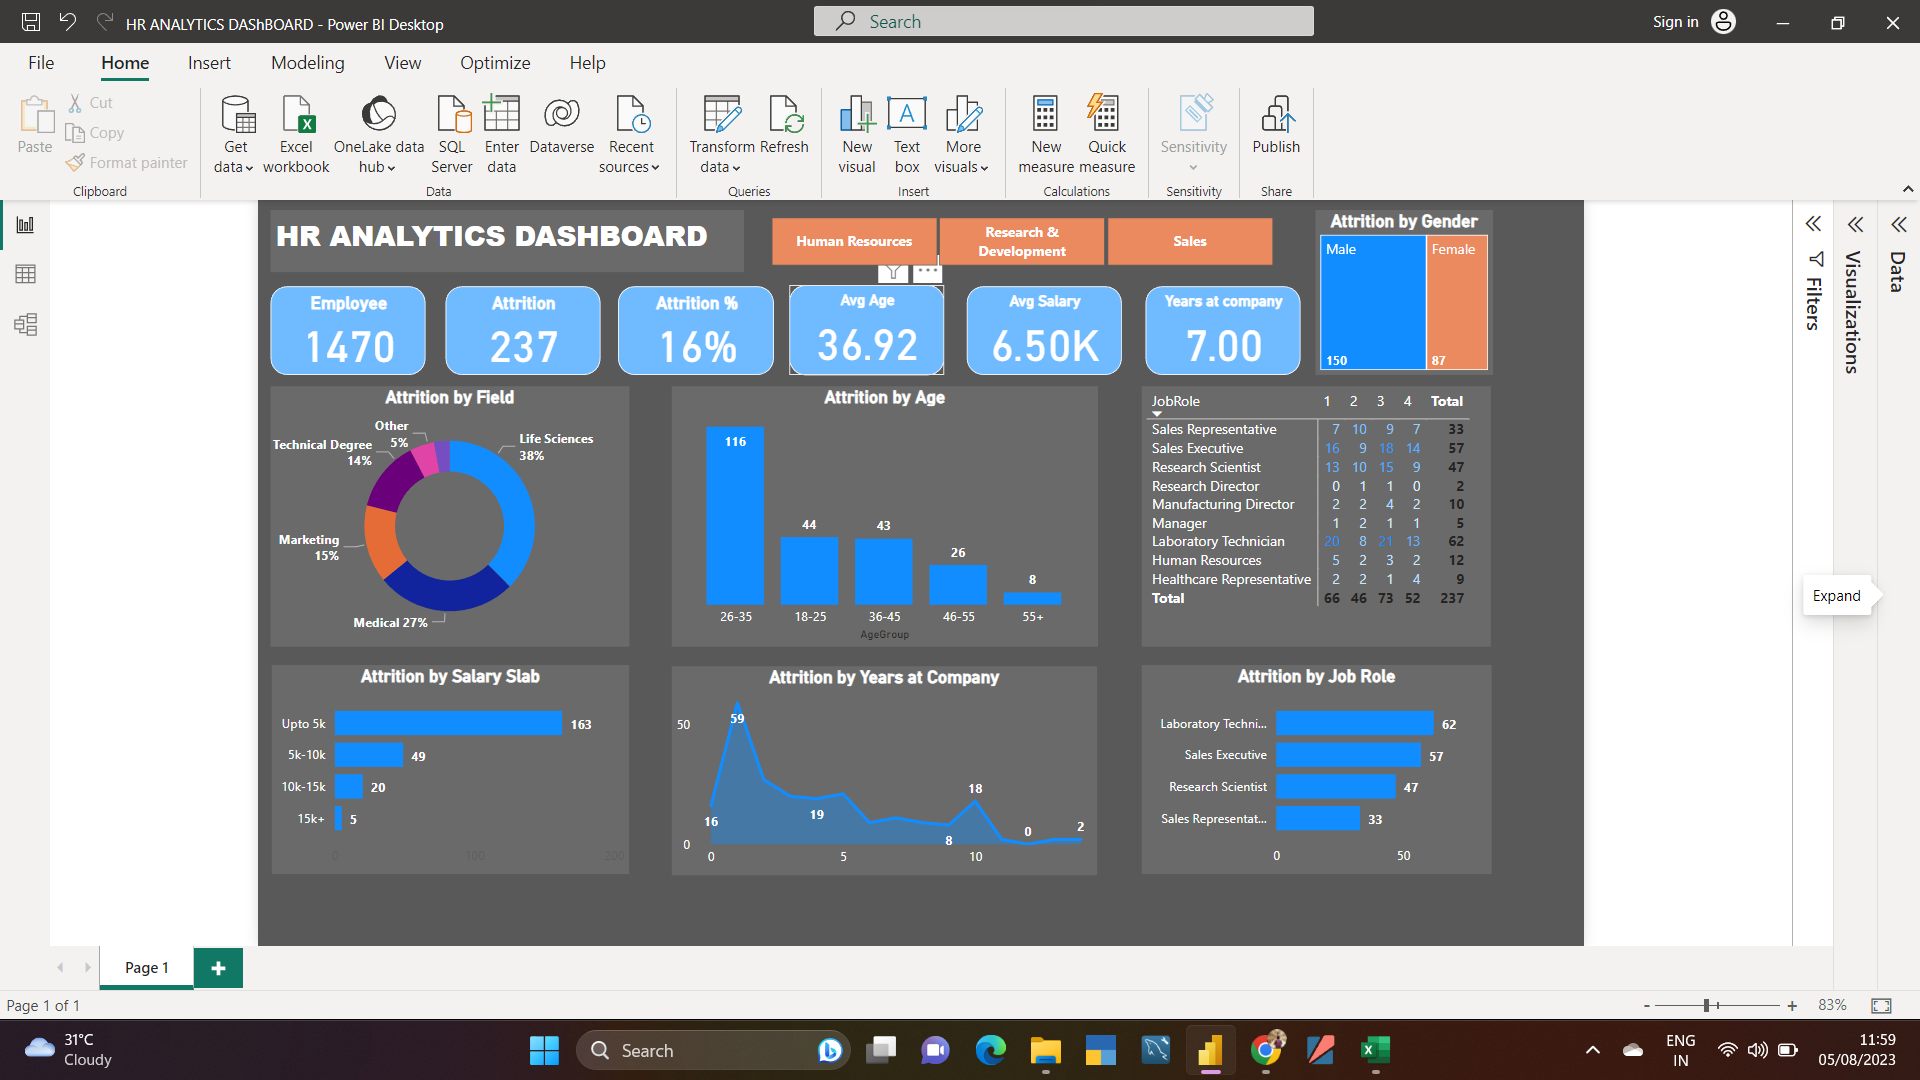

What the dashboard file says about the page in this screenshot:
{"tool":"powerbi","page":{"name":"Page 1","canvas":[1280,720],"ordinal":0},"visuals":[{"type":"card","title":"Employee","fields":{"Values":["Count(HR_Analytics.EmpID)"]},"box":[12.1,83.2,149.5,85.6],"z":0},{"type":"card","title":"Avg Age","fields":{"Values":["Avg(HR_Analytics.Age)"]},"box":[512.6,82,149.5,86.8],"z":1000},{"type":"card","title":"Attrition","fields":{"Values":["Sum(HR_Analytics.Attrition Count )"]},"box":[180.9,83.2,149.5,85.6],"z":2000},{"type":"card","title":"Attrition %","fields":{"Values":["HR_Analytics.Attrition Rate"]},"box":[347.3,83.2,150.8,85.6],"z":3000},{"type":"card","title":"Avg Salary","fields":{"Values":["Avg(HR_Analytics.MonthlyIncome)"]},"box":[683.8,83.2,149.5,85.6],"z":4000},{"type":"card","title":"Years at company","fields":{"Values":["Avg(HR_Analytics.YearsAtCompany)"]},"box":[856.3,83.2,149.5,85.6],"z":5000},{"type":"donutChart","title":"Attrition by Field","fields":{"Category":["HR_Analytics.EducationField"],"Y":["Sum(HR_Analytics.Attrition Count )"]},"box":[12.1,179.7,346.1,250.9],"z":6000},{"type":"barChart","title":"Attrition by Salary Slab","fields":{"Category":["HR_Analytics.SalarySlab"],"Y":["Sum(HR_Analytics.Attrition Count )"]},"box":[13.3,448.6,344.9,201.4],"z":7000},{"type":"columnChart","title":"Attrition by Age","fields":{"Category":["HR_Analytics.AgeGroup"],"Y":["Sum(HR_Analytics.Attrition Count )"]},"box":[399.2,179.7,411.3,250.9],"z":8000},{"type":"areaChart","title":"Attrition by Years at Company","fields":{"Category":["HR_Analytics.YearsAtCompany"],"Y":["Sum(HR_Analytics.Attrition Count )"]},"box":[399.2,449.8,410.1,201.4],"z":9000},{"type":"barChart","title":"Attrition by Job Role","fields":{"Category":["HR_Analytics.JobRole"],"Y":["Sum(HR_Analytics.Attrition Count )"]},"box":[852.7,448.6,337.7,201.4],"z":10000},{"type":"pivotTable","title":"Attrition by Job Role","fields":{"Rows":["HR_Analytics.JobRole"],"Values":["Sum(HR_Analytics.Attrition Count )"],"Columns":["HR_Analytics.JobSatisfaction"]},"box":[852.7,179.7,336.5,250.9],"z":11000},{"type":"slicer","fields":{"Values":["HR_Analytics.Department"]},"box":[469.1,9.6,534.3,60.3],"z":12000},{"type":"treemap","title":"Attrition by Gender","fields":{"Values":["Sum(HR_Analytics.Attrition Count )"],"Group":["HR_Analytics.Gender"]},"box":[1020.3,9.6,171.3,159.2],"z":13000},{"type":"textbox","box":[12.1,9.6,457.1,60.3],"z":14000}]}

Visuals, with their boxes on the page's 1280x720 design canvas (x1, y1, x2, y2). These are canvas units, not pixel positions in the 1920x1080 screenshot, which may show the page scaled, cropped or inside an application window:
"Employee" card: (12, 83, 162, 169)
"Avg Age" card: (513, 82, 662, 169)
"Attrition" card: (181, 83, 330, 169)
"Attrition %" card: (347, 83, 498, 169)
"Avg Salary" card: (684, 83, 833, 169)
"Years at company" card: (856, 83, 1006, 169)
"Attrition by Field" donutChart: (12, 180, 358, 431)
"Attrition by Salary Slab" barChart: (13, 449, 358, 650)
"Attrition by Age" columnChart: (399, 180, 810, 431)
"Attrition by Years at Company" areaChart: (399, 450, 809, 651)
"Attrition by Job Role" barChart: (853, 449, 1190, 650)
"Attrition by Job Role" pivotTable: (853, 180, 1189, 431)
slicer - HR_Analytics.Department: (469, 10, 1003, 70)
"Attrition by Gender" treemap: (1020, 10, 1192, 169)
textbox: (12, 10, 469, 70)
